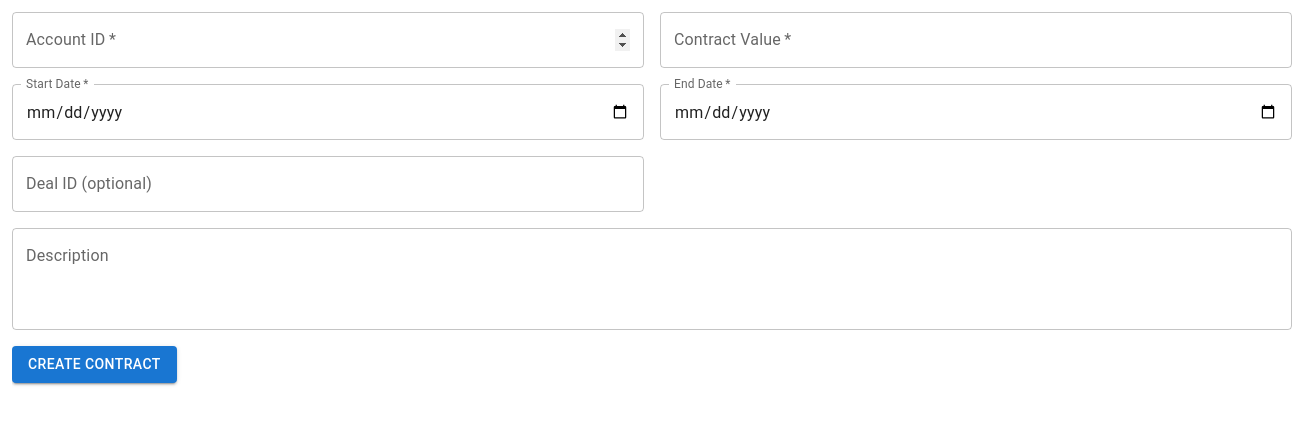
Test case: ContractForm — create mode › shows cross-field error when end_date is before start_date
Type "1000" into the number field labelled "Contract Value".
click(976, 40); type("1000")  # box [660, 12, 1292, 68]
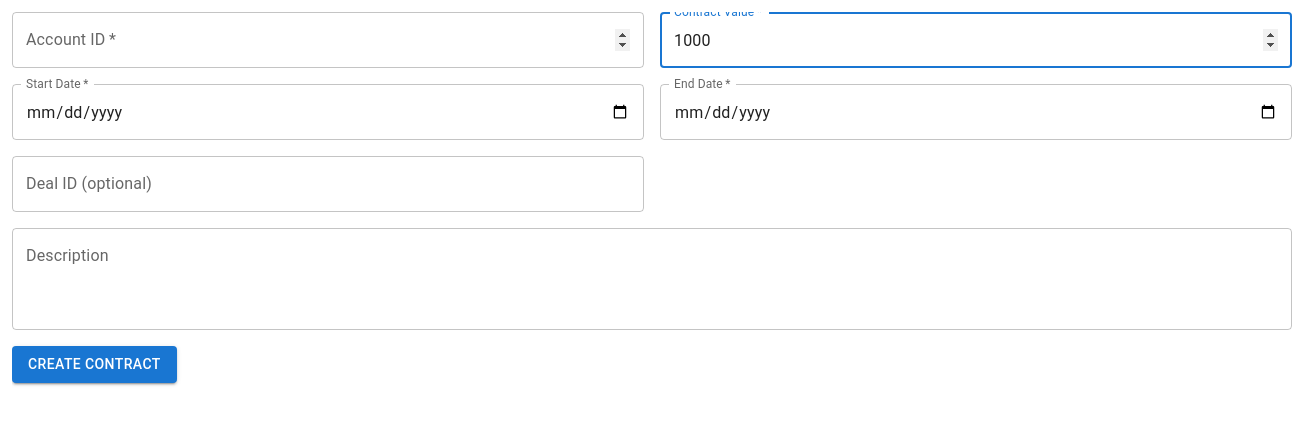
Type "1" into the number field labelled "Account ID".
click(328, 40); type("1")  # box [12, 12, 644, 68]
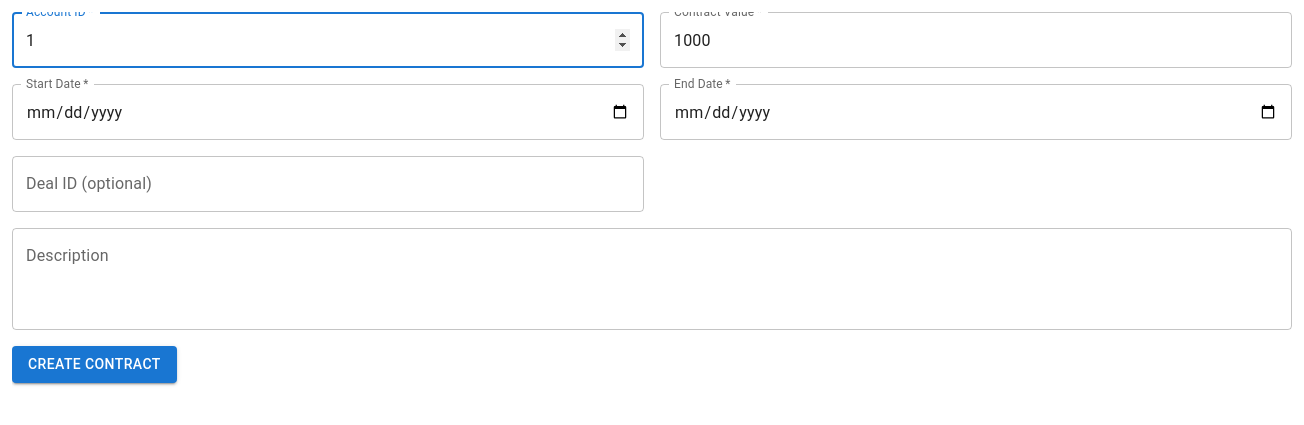
Type "2026-12-31" into the date field labelled "Start Date".
click(328, 112); type("2026-12-31")  # box [12, 84, 644, 140]
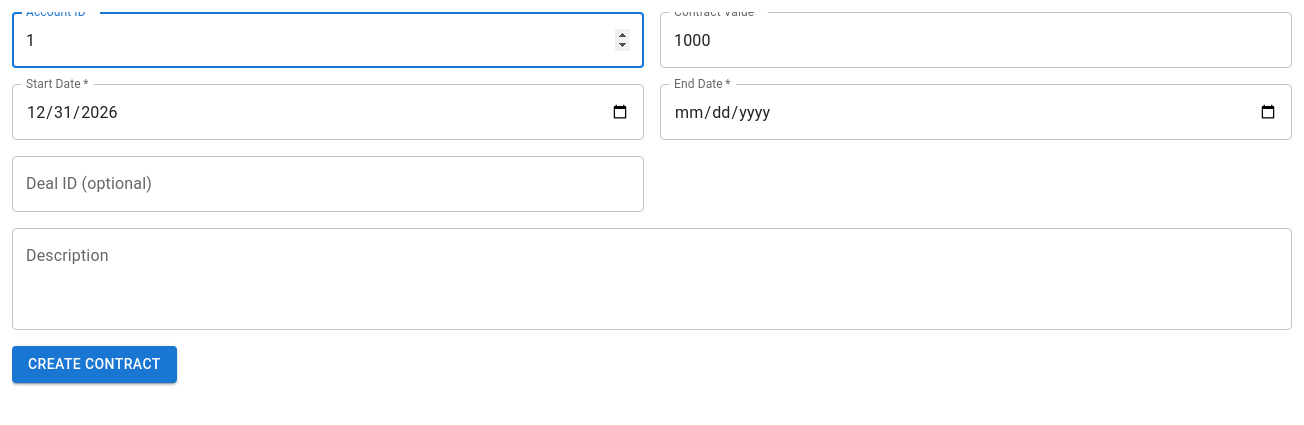
Type "2026-01-01" into the date field labelled "End Date".
click(976, 112); type("2026-01-01")  # box [660, 84, 1292, 140]
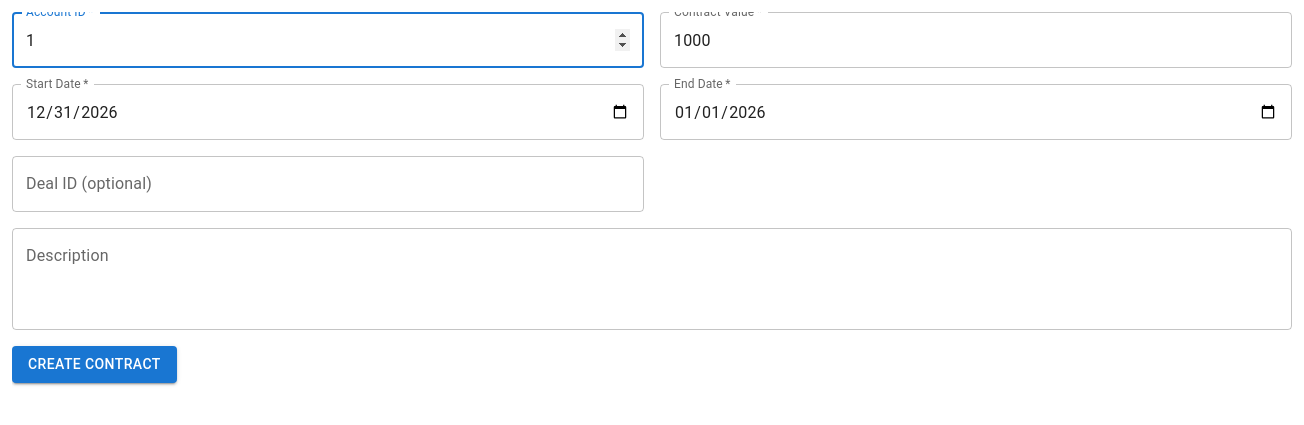
Submit the form from the button "Create Contract", box [12, 346, 177, 382]
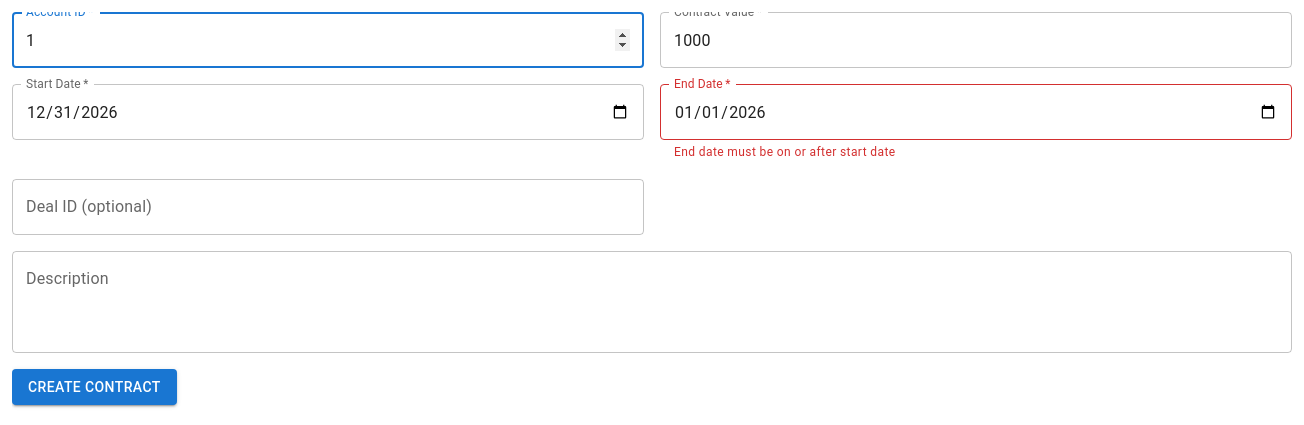
Result: the text "End date must be on or after start date" is shown at [674, 145, 896, 159]
